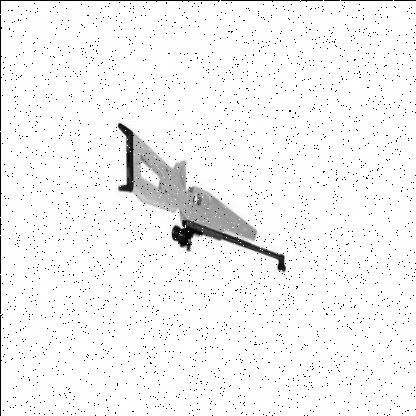rifle: (108, 109, 290, 285)
